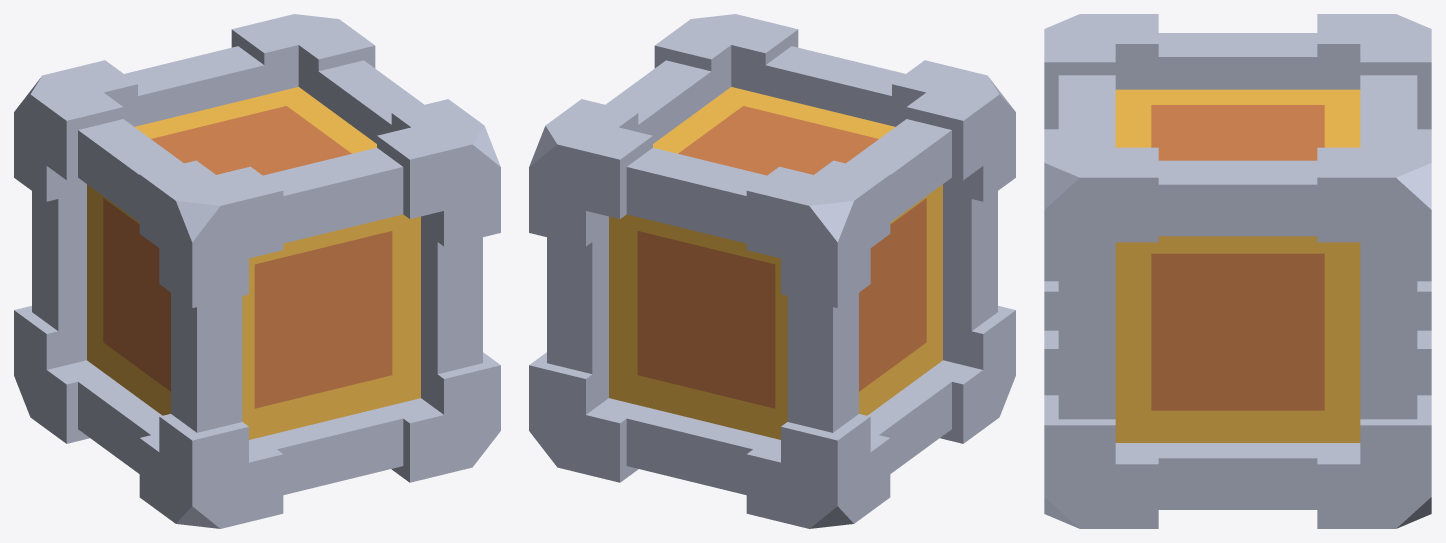
File: crateItemStrong.fbx
3 renders of one model, left to right at view 1: azimuth 30°, elevation 25°; view 2: azimuth 150°, elevation 25°; view 3: azimuth 270°, elevation 25°, orthographic. The views are drawn at different scales.
Visible parts, largest first — view 1: crateItemStrong; view 2: crateItemStrong; view 3: crateItemStrong.
Boxes of the visible parts, x1,y1,x2,y2 form: crateItemStrong: (14,14,500,528); crateItemStrong: (529,14,1015,528); crateItemStrong: (1044,14,1431,528).
Size of the model in its own units: 5.4 by 5.4 by 5.4.
